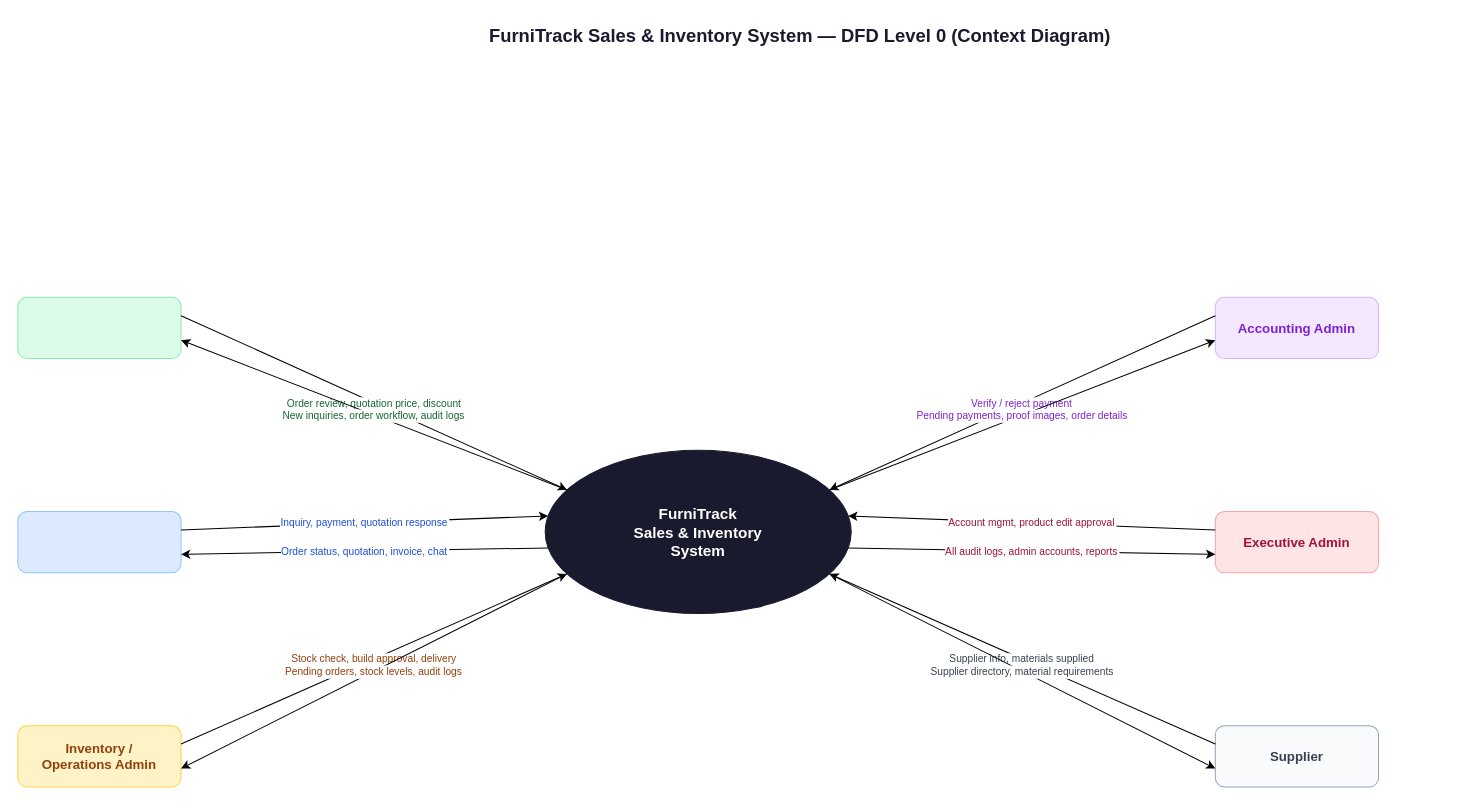
Some shapes in this 1458 by 805 pixel diagram are drawn without their labels. Here are the shapes that lost their labels. From the top down, the box of each, then its label:
(17, 296, 181, 359): Sales Admin
(17, 511, 181, 573): Customer
